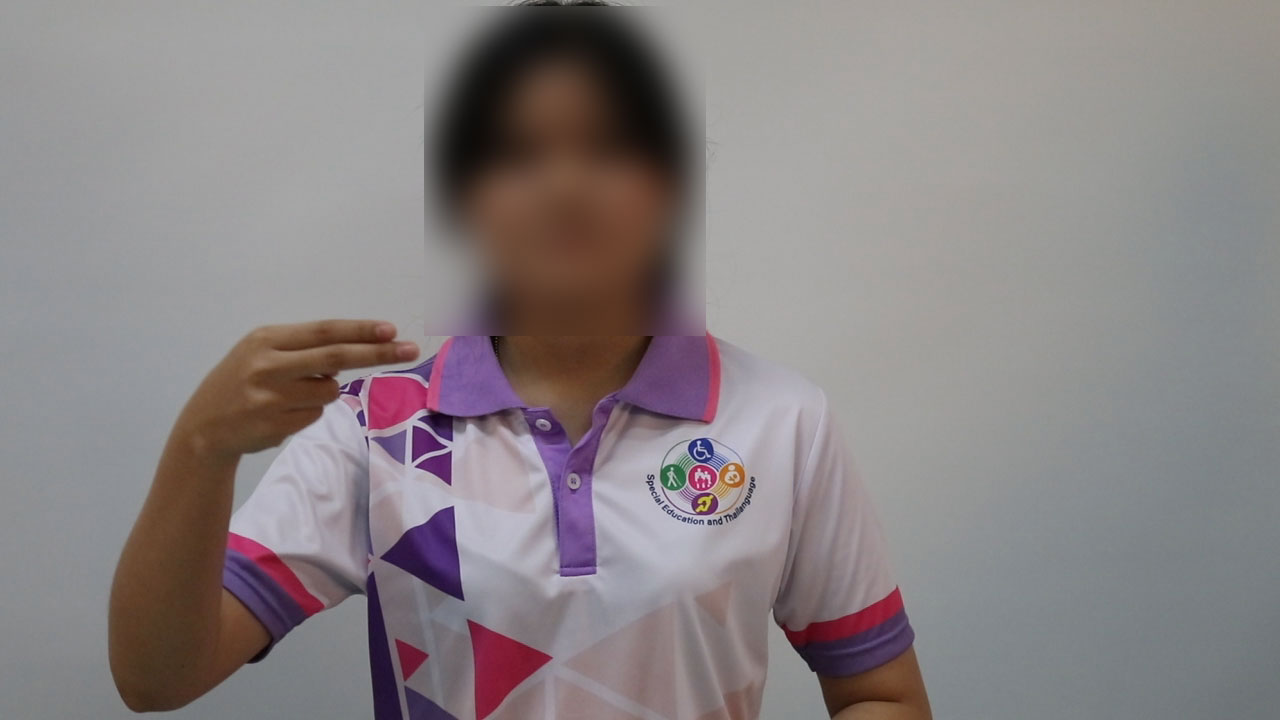hor: (181, 313, 431, 462)
